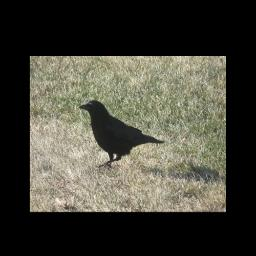Crow: (76, 98, 163, 167)
